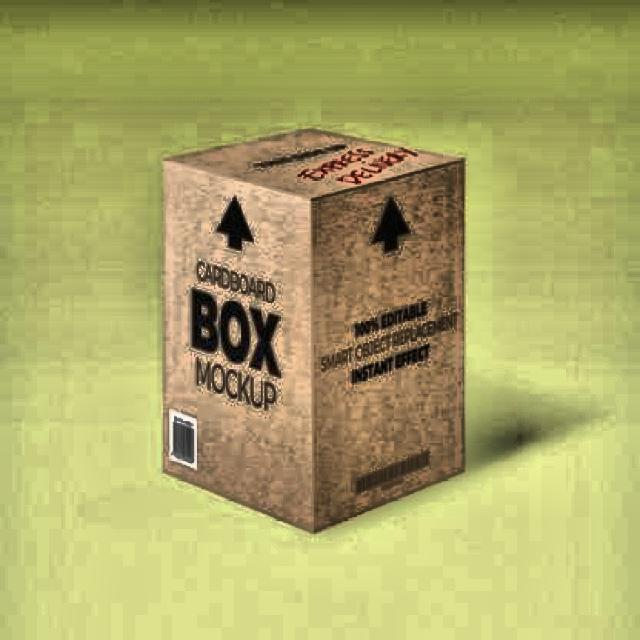Cardbox: (139, 109, 485, 549)
